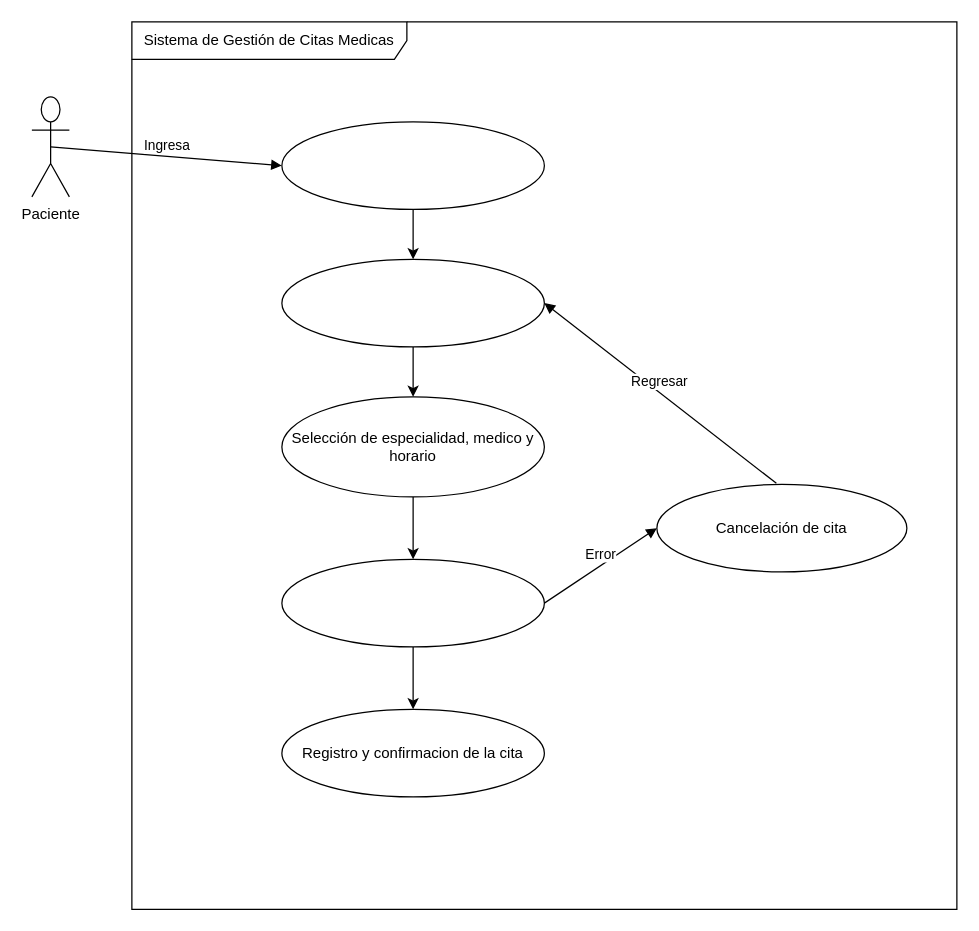
Some shapes in this 979 by 931 pixel diagram are drawn without their labels. The centre of each missing label's shape, as x and y in pixels:
Confirmación y pago en linea: the point at 412,602
Inicio de sesión: the point at 412,302
Registro: the point at 412,165
